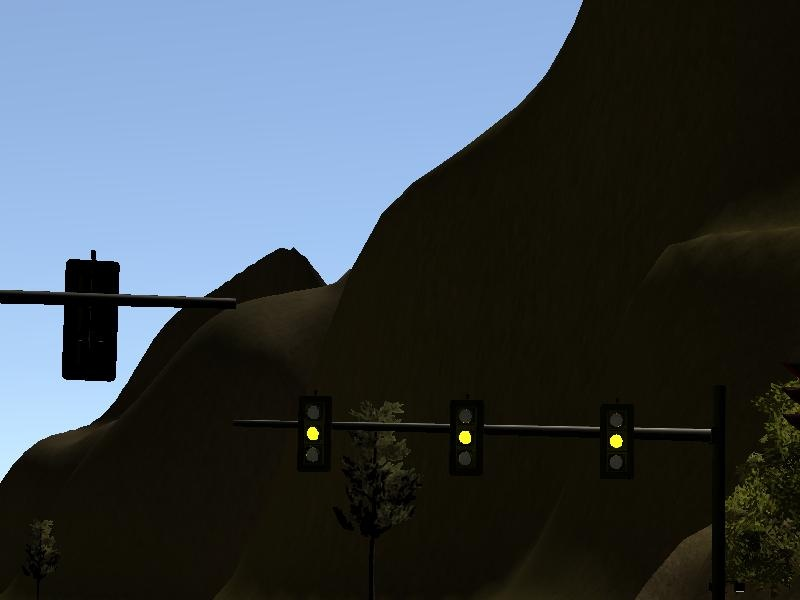yellow: (448, 400, 485, 475), (600, 404, 634, 480), (298, 397, 332, 473)
